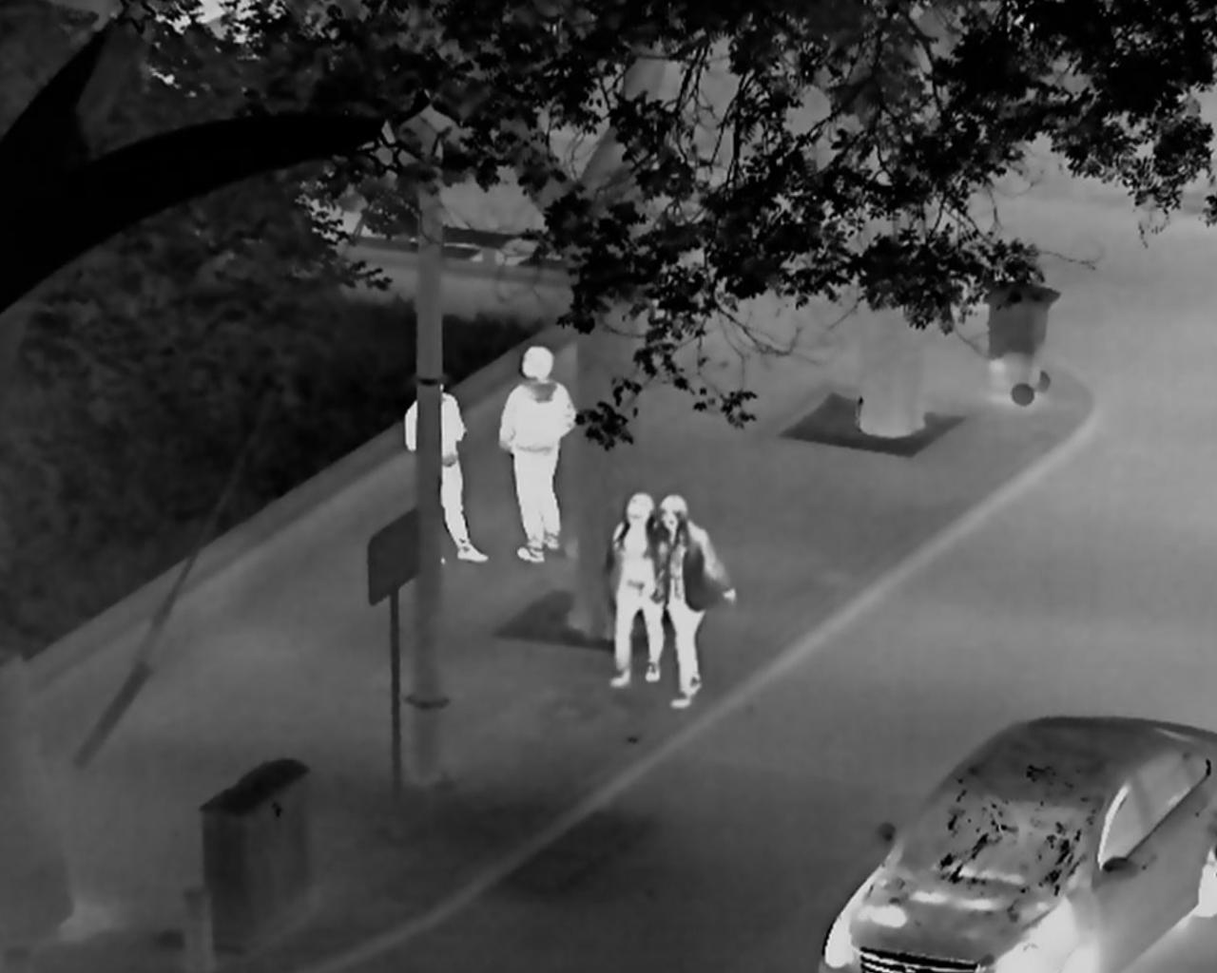person: (658, 494, 737, 710), (498, 345, 576, 563), (404, 382, 491, 565), (608, 489, 666, 688)
